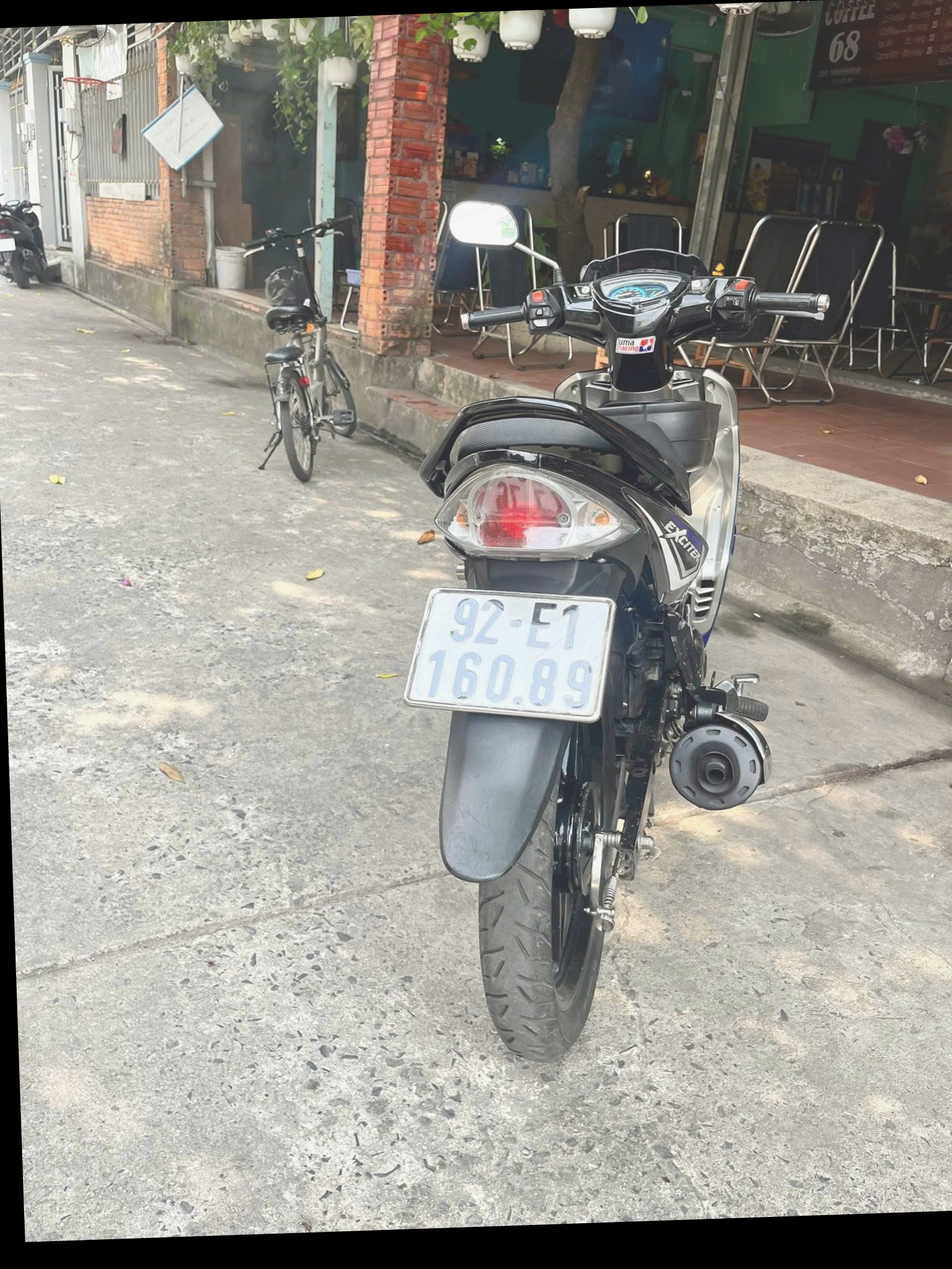Bien-so: (404, 581, 617, 729)
